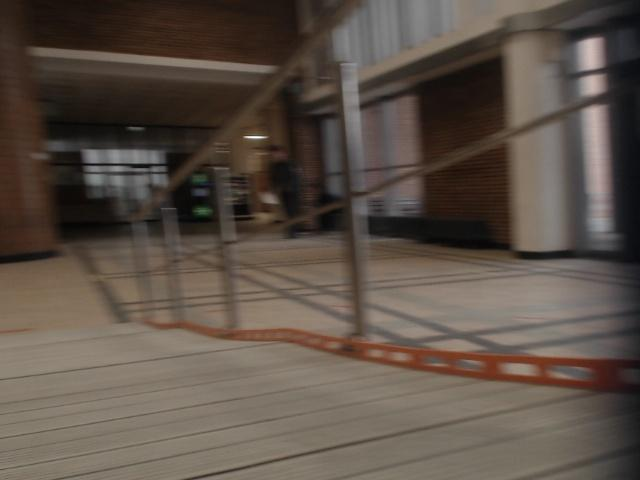rampDown: (0, 321, 639, 479)
ramps-railing: (130, 0, 359, 306), (281, 63, 372, 335), (207, 168, 238, 326)
